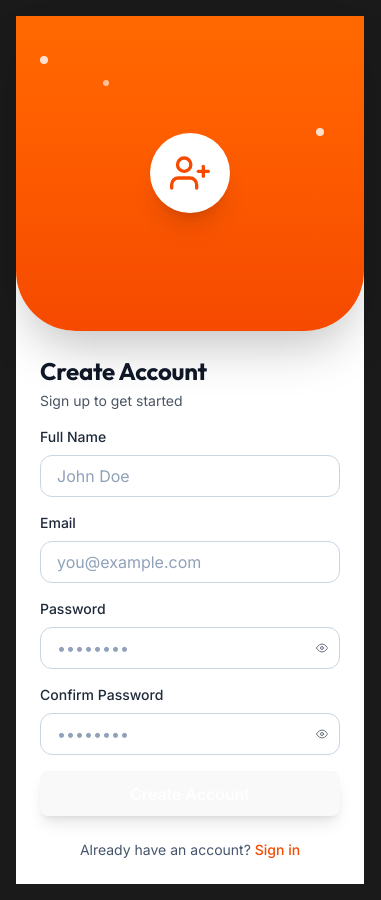
Test: Register › displays email validation error for invalid email
This screenshot has width=381, height=900.
Step 1. Type "invalidemail" into the field labelled "Email" → (190, 562), box [40,541,340,583]
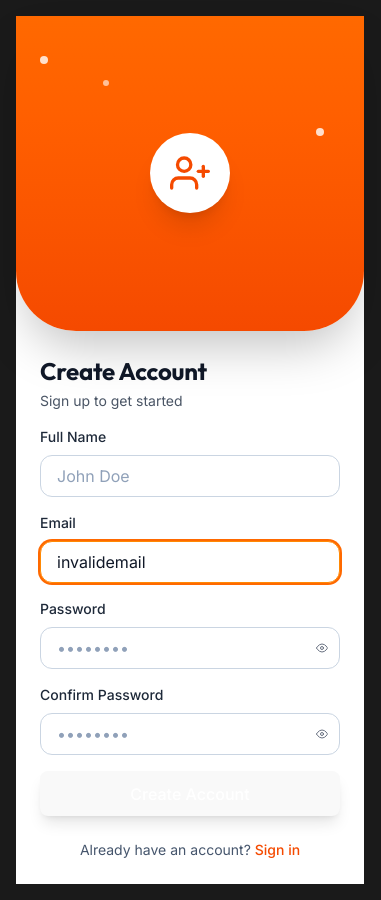
Step 2. Click the button "Create Account" → (190, 794), box [40,771,340,816]
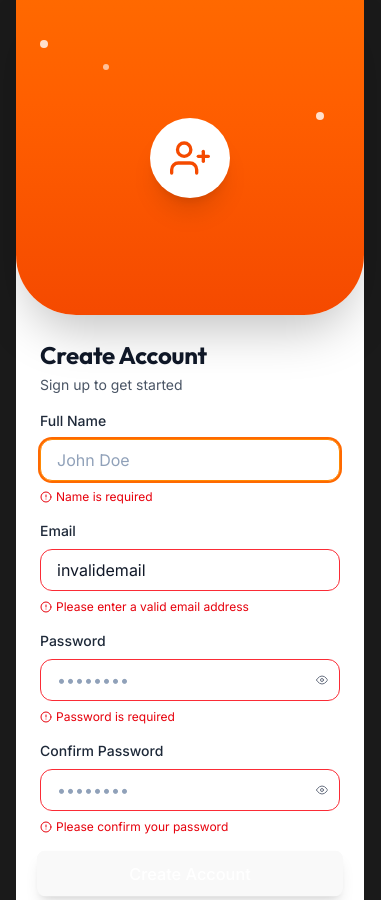
Expected: the text "Please enter a valid email address" is shown, [56,599,249,615]
